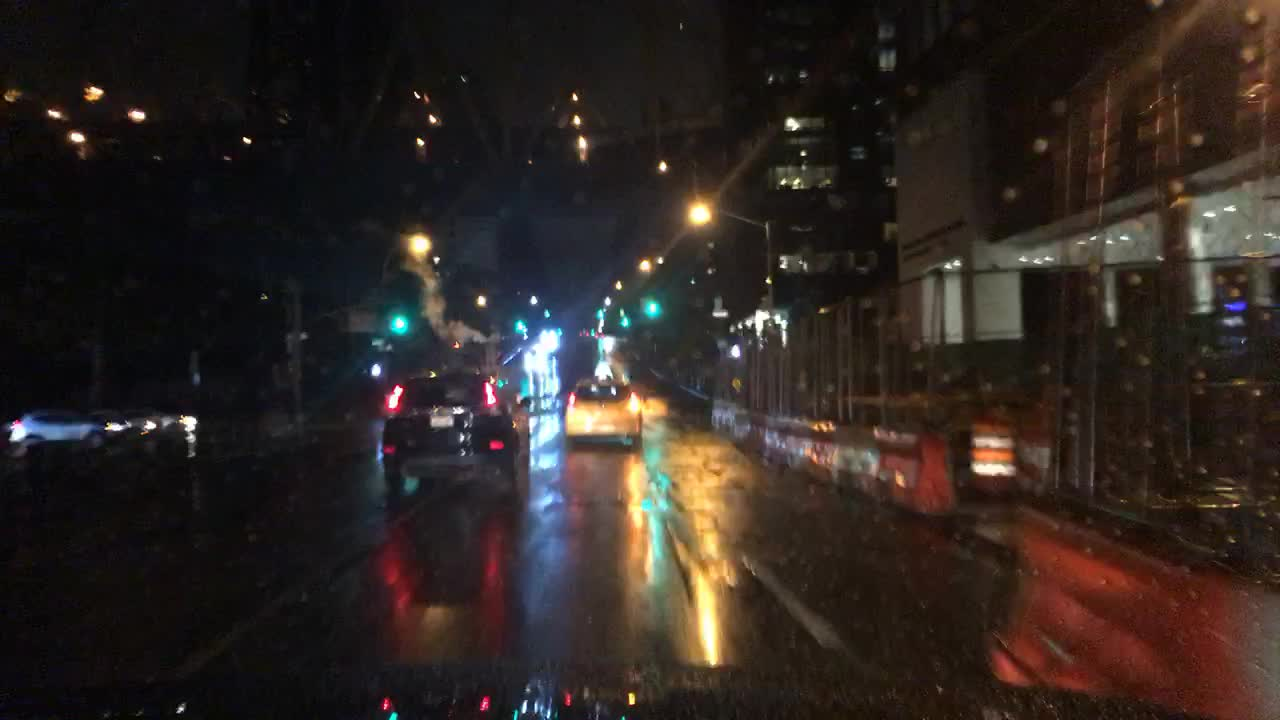car: (381, 368, 532, 491), (567, 362, 643, 447), (10, 413, 105, 460), (109, 407, 197, 443), (535, 393, 558, 414), (519, 393, 541, 414)
traffic light: (387, 314, 409, 335), (643, 301, 658, 320), (514, 320, 526, 335), (618, 316, 631, 329), (592, 308, 604, 320)
